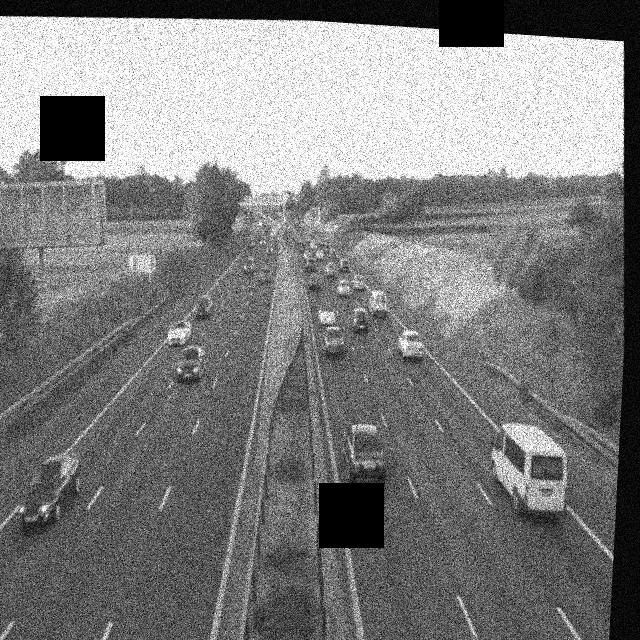car: (487, 420, 573, 522), (15, 451, 85, 531), (341, 420, 389, 489), (176, 343, 208, 384), (319, 315, 346, 358), (396, 329, 426, 361), (167, 318, 192, 345), (367, 289, 390, 318), (193, 293, 214, 321), (350, 306, 370, 333), (317, 307, 337, 329), (351, 273, 366, 293), (337, 278, 351, 298), (309, 272, 323, 291), (324, 261, 338, 279), (258, 264, 271, 283), (244, 256, 256, 275), (305, 256, 317, 273), (341, 259, 353, 276), (323, 244, 332, 258), (266, 242, 275, 255)
